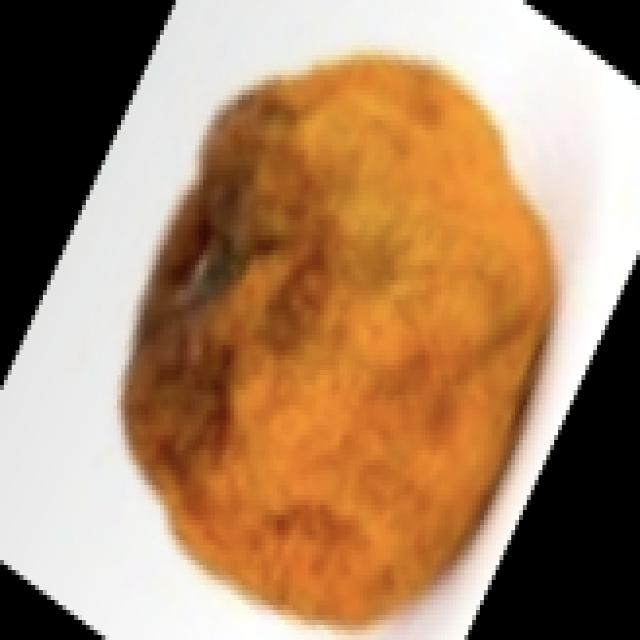sangat_busuk: (122, 63, 552, 627)
